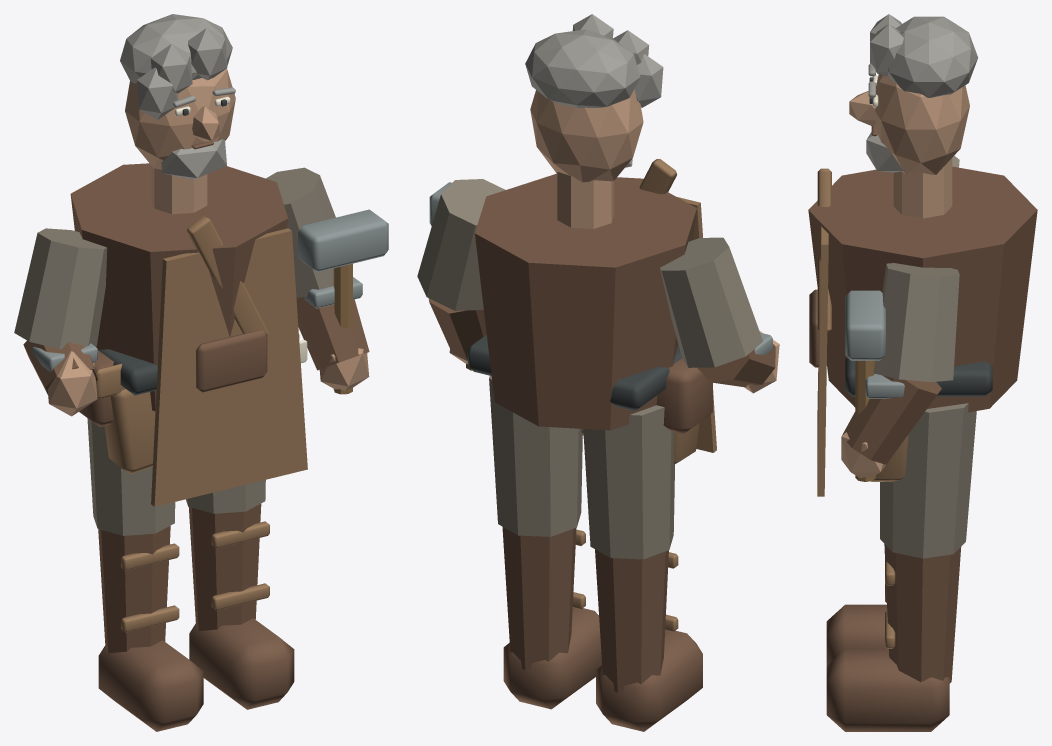
The model's file is model_zhou.glb.
The picture shows the model from 3 angles, left to right: view 1: azimuth 30°, elevation 25°; view 2: azimuth 150°, elevation 25°; view 3: azimuth 270°, elevation 25°; orthographic projection. The views are drawn at different scales.
Parts seen in each view (by area): view 1: smith apron, coat torso.004, upper sleeve.008, boot toe.008, boot toe.009, shin leather boot.009, shin leather boot.008, trouser upper leg.008, head.004, smith hammer head, upper sleeve.009, apron pocket (+24 smaller); view 2: coat torso.004, trouser upper leg.008, trouser upper leg.009, upper sleeve.008, shin leather boot.008, shin leather boot.009, head.004, swept dark hair.001, upper sleeve.009, boot toe.008, boot toe.009, belt pouch.004 (+9 smaller); view 3: coat torso.004, trouser upper leg.009, upper sleeve.009, boot toe.009, shin leather boot.009, head.004, swept dark hair.001, forearm leather bracer.009, smith hammer head, boot toe.008, neck.004, smith apron (+10 smaller).
Boxes of the visible parts, x1,y1,x2,y2 form: smith apron: [151, 228, 307, 506]; coat torso.004: [70, 163, 287, 411]; upper sleeve.008: [14, 228, 107, 349]; boot toe.008: [98, 640, 203, 731]; boot toe.009: [189, 618, 294, 709]; shin leather boot.009: [188, 503, 261, 630]; shin leather boot.008: [98, 525, 170, 653]; trouser upper leg.008: [87, 418, 175, 535]; head.004: [125, 68, 235, 169]; smith hammer head: [298, 209, 388, 272]; upper sleeve.009: [266, 167, 335, 297]; apron pocket: [196, 329, 267, 392]; coat torso.004: [475, 173, 696, 430]; trouser upper leg.008: [583, 405, 674, 559]; trouser upper leg.009: [489, 375, 582, 536]; upper sleeve.008: [660, 237, 762, 367]; shin leather boot.008: [595, 549, 668, 693]; shin leather boot.009: [502, 526, 576, 670]; head.004: [530, 89, 643, 182]; swept dark hair.001: [525, 29, 640, 107]; upper sleeve.009: [417, 179, 505, 310]; boot toe.008: [596, 630, 702, 731]; boot toe.009: [503, 607, 601, 709]; belt pouch.004: [656, 358, 712, 434]; coat torso.004: [808, 166, 1037, 412]; trouser upper leg.009: [880, 403, 976, 558]; upper sleeve.009: [874, 263, 959, 382]; boot toe.009: [826, 649, 949, 731]; shin leather boot.009: [884, 544, 961, 683]; head.004: [875, 73, 969, 174]; swept dark hair.001: [888, 16, 978, 97]; forearm leather bracer.009: [842, 375, 941, 464]; smith hammer head: [845, 290, 885, 360]; boot toe.008: [826, 604, 888, 665]; neck.004: [893, 158, 952, 218]; smith apron: [817, 226, 828, 496].
Bounding box in the file's own units: 0.9648 × 1.84 × 0.56.
